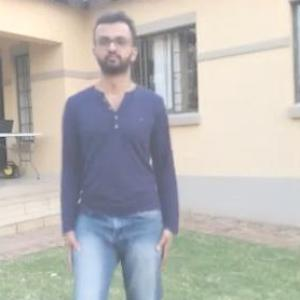follow: (83, 41, 184, 299)
